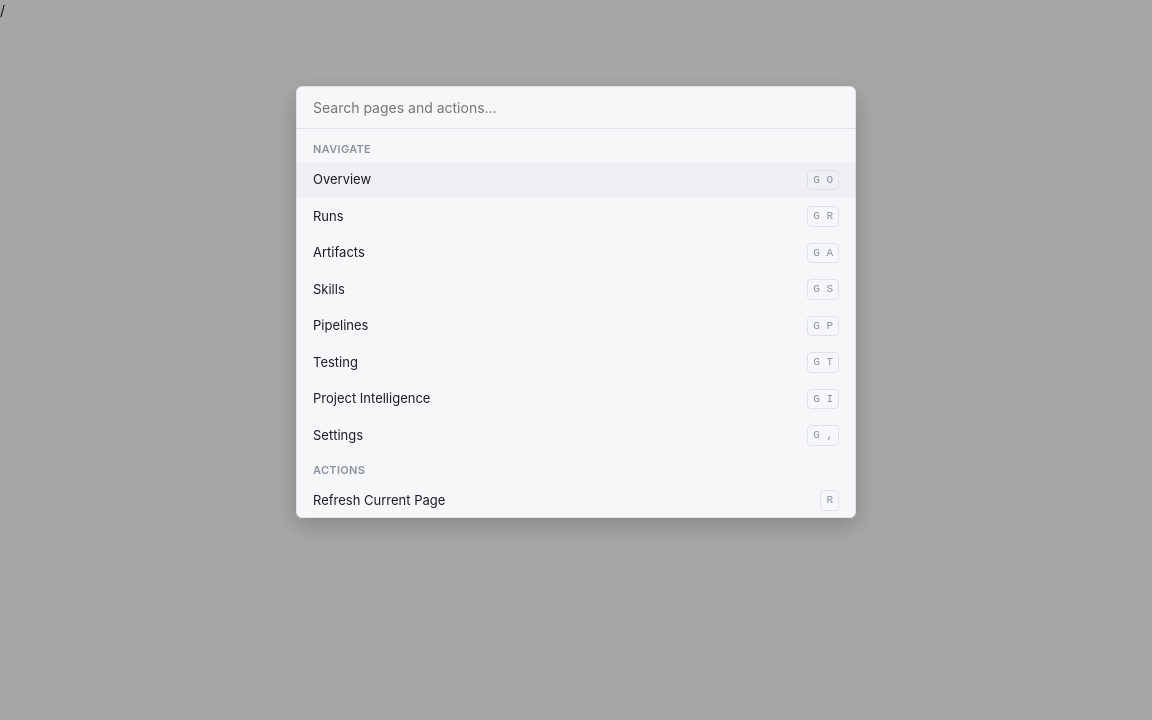
Test case: CommandPalette › lists navigation entries and filters by search
Expected: the dialog named "Command palette" is shown, [296, 86, 856, 518]
Expected: the option "Overview G O" is shown, [297, 162, 855, 198]
Type "settings" into the dropdown at x=576, y=108, box [297, 87, 855, 128]
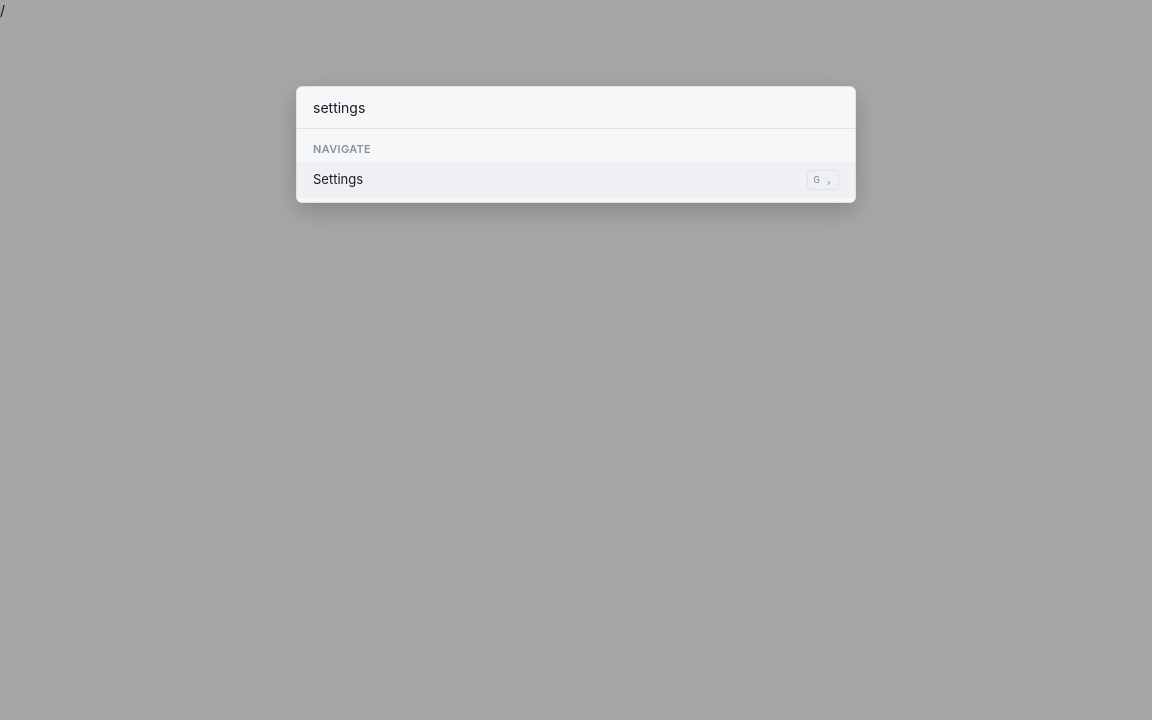
Expected: the option "Settings G ," is shown, [297, 162, 855, 198]
Now the option "Runs" is gone
